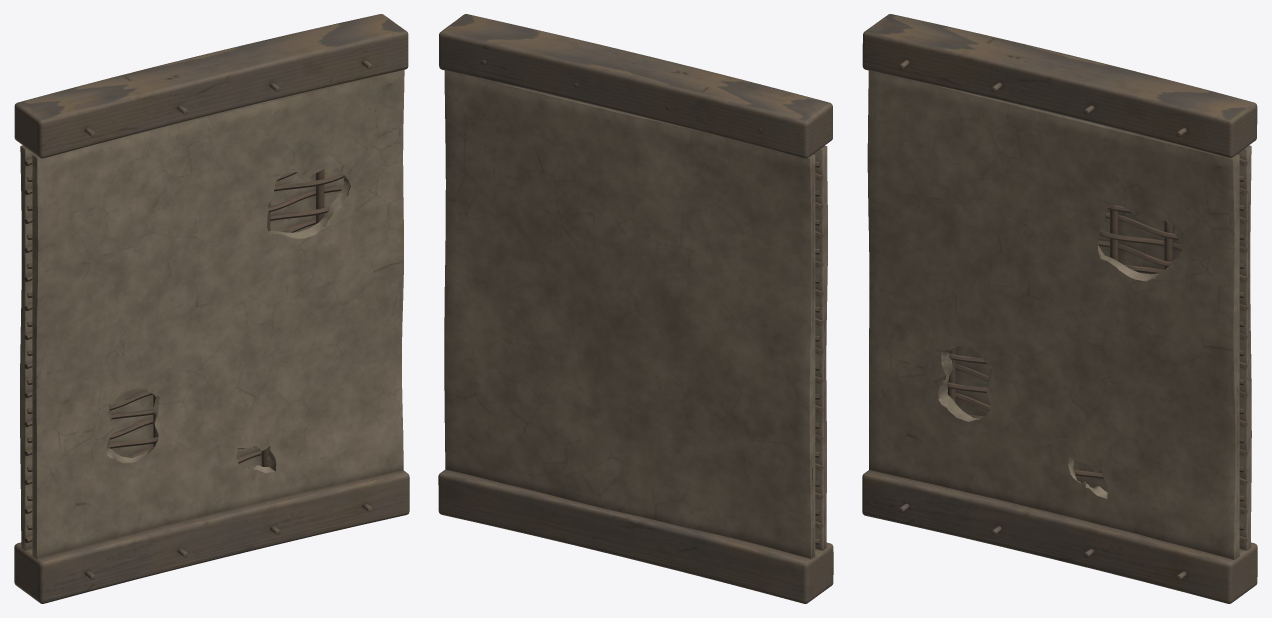
Rendered from wall_wattle_2m.glb.
The picture shows the model from 3 angles, left to right: view 1: azimuth 30°, elevation 25°; view 2: azimuth 150°, elevation 25°; view 3: azimuth 330°, elevation 25°; orthographic projection.
Parts seen in each view (by area): view 1: wall_wattle_2m; view 2: wall_wattle_2m; view 3: wall_wattle_2m.
Part boxes in pixels (x1,y1,x2,y2): wall_wattle_2m: (14, 14, 409, 603); wall_wattle_2m: (438, 14, 833, 603); wall_wattle_2m: (862, 14, 1257, 603).
Bounding box in the file's own units: 2.01 × 2.51 × 0.323.
1 material, 1 textured.
